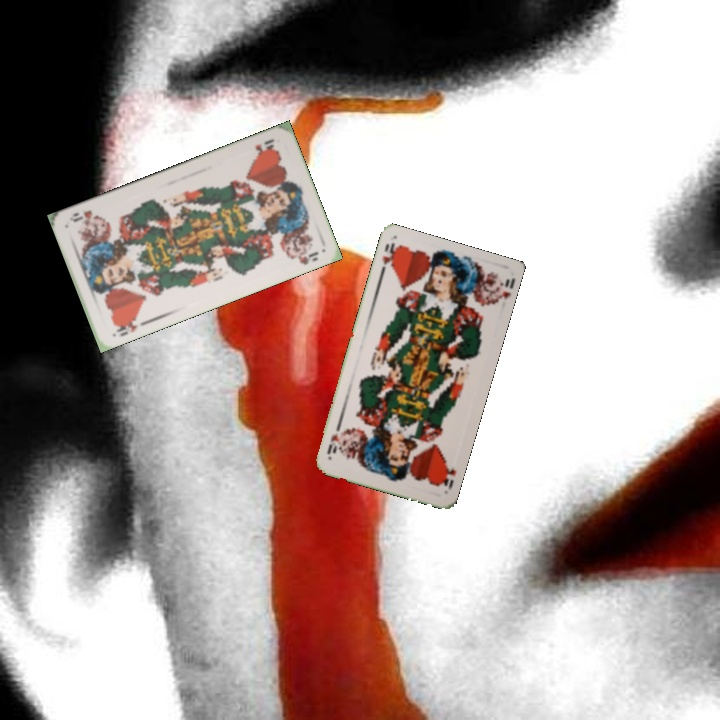HO: (110, 313, 148, 339), (377, 239, 401, 278), (435, 461, 459, 492), (251, 135, 277, 157)
